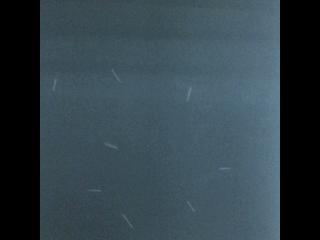scratch: (105, 65, 128, 88), (182, 196, 203, 218), (179, 81, 199, 104), (119, 211, 139, 233), (45, 73, 64, 96), (98, 138, 125, 154), (212, 160, 235, 177), (84, 183, 107, 198)
